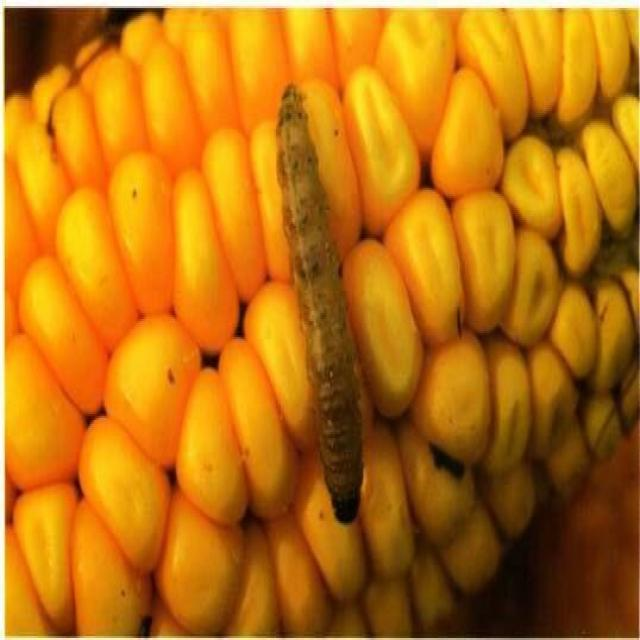peach borer: (274, 76, 375, 528)
